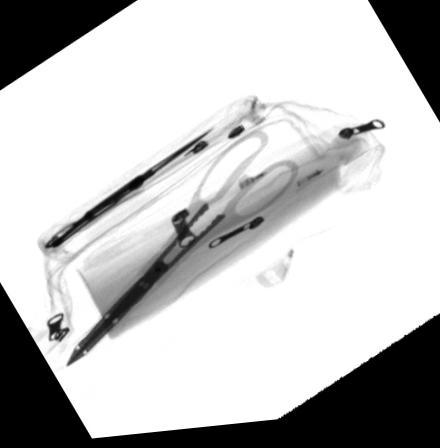Knife: (42, 131, 215, 250)
Scissors: (65, 130, 302, 368)
